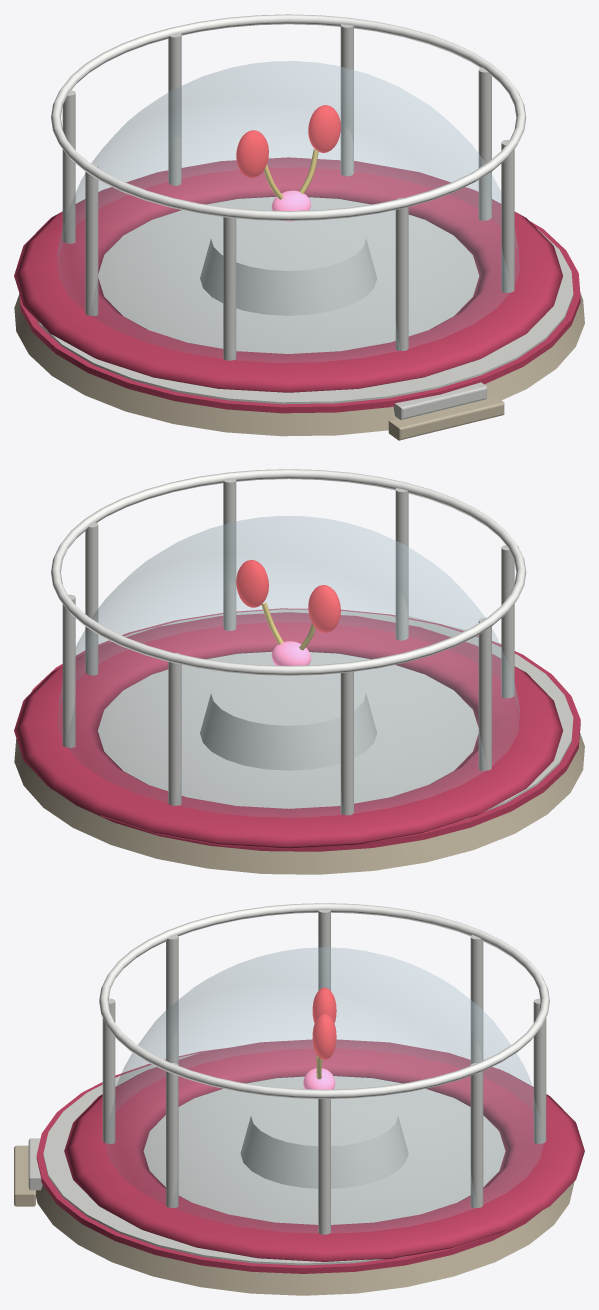
The model's file is bodyDome.glb.
3 views of the same model, one above another, from view 1: azimuth 30°, elevation 25°; view 2: azimuth 150°, elevation 25°; view 3: azimuth 270°, elevation 25° (orthographic). The views are drawn at different scales.
Parts seen in each view (by area): view 1: part_000, part_007, part_008, part_002, part_004, part_006; view 2: part_000, part_007, part_008, part_004, part_002, part_006; view 3: part_000, part_007, part_008, part_004, part_002, part_006.
Part boxes in pixels (bbox=[...]): part_000: bbox=[14, 24, 584, 440]; part_007: bbox=[57, 61, 519, 362]; part_008: bbox=[51, 14, 526, 220]; part_002: bbox=[236, 130, 268, 177]; part_004: bbox=[308, 105, 340, 152]; part_006: bbox=[271, 190, 310, 221]; part_000: bbox=[14, 479, 584, 874]; part_007: bbox=[57, 516, 519, 816]; part_008: bbox=[51, 469, 526, 675]; part_004: bbox=[236, 560, 268, 607]; part_002: bbox=[308, 585, 340, 632]; part_006: bbox=[271, 641, 310, 665]; part_000: bbox=[14, 910, 584, 1295]; part_007: bbox=[105, 947, 543, 1232]; part_008: bbox=[99, 903, 549, 1098]; part_004: bbox=[312, 1014, 336, 1059]; part_002: bbox=[312, 987, 336, 1023]; part_006: bbox=[303, 1068, 335, 1089].
Bounding box in the file's own units: 10.32 × 4.46 × 10.87.
